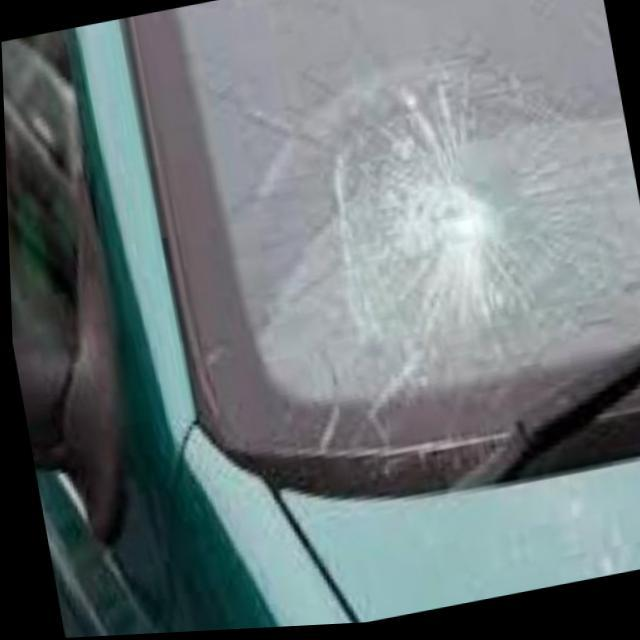glass shatter: (334, 78, 594, 340)
